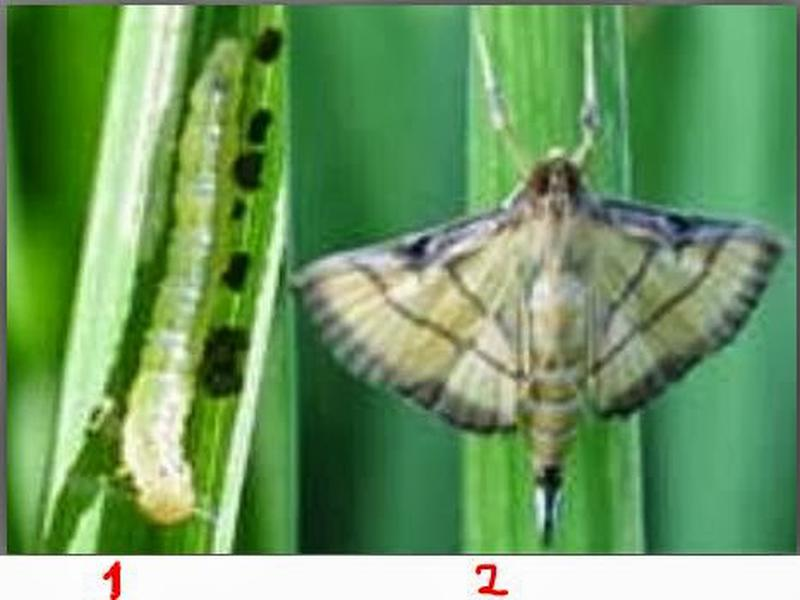Leaf_folder: (277, 158, 785, 441), (121, 98, 225, 524)
